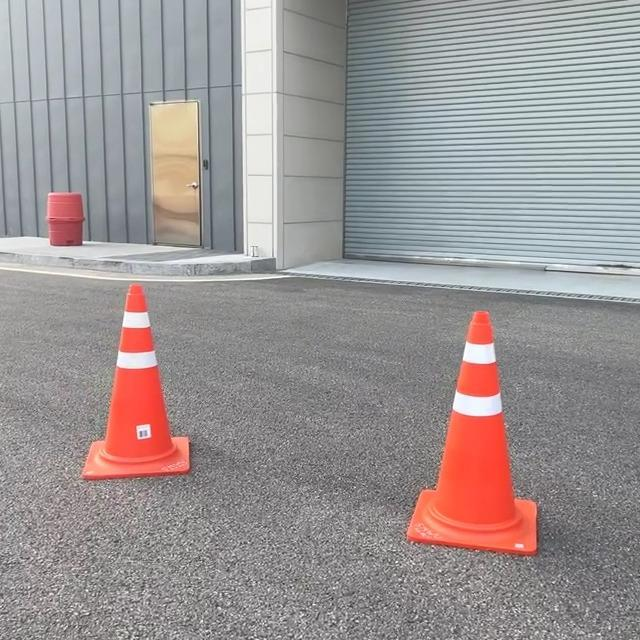fallen_object: (359, 299, 576, 557), (75, 283, 233, 493)
